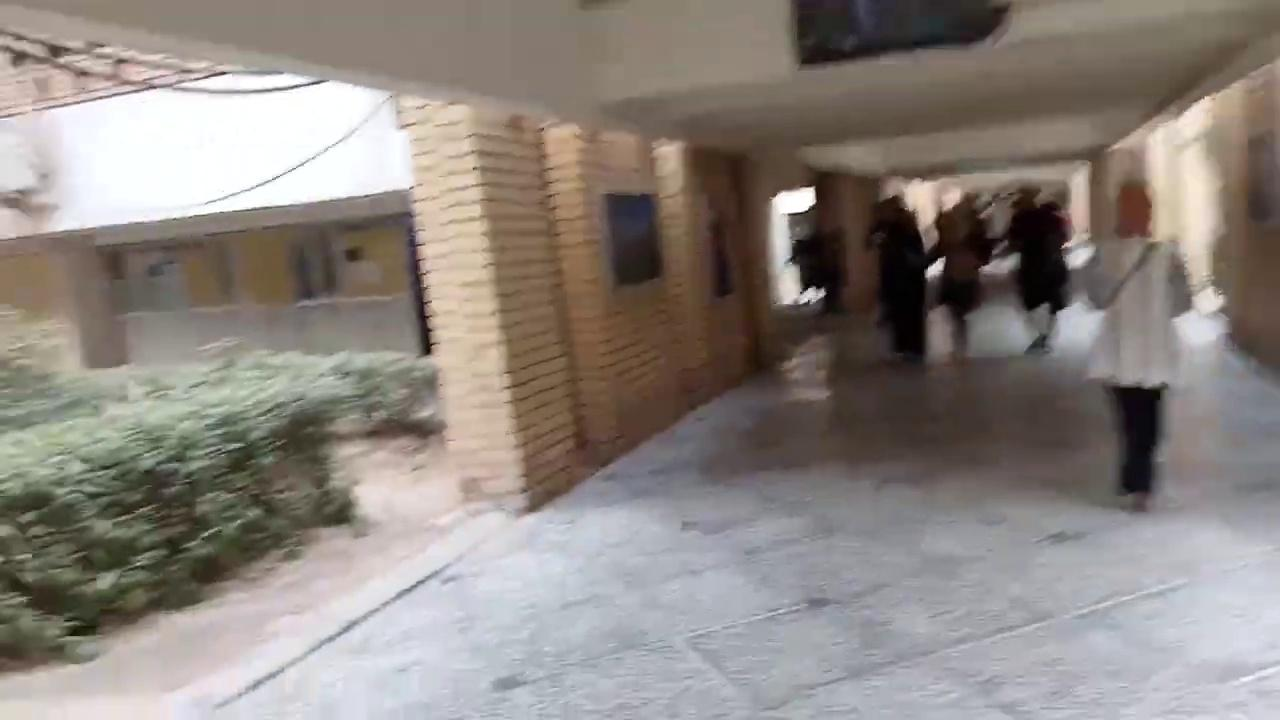person: (1081, 180, 1194, 512), (991, 184, 1071, 354), (927, 190, 998, 364), (868, 194, 934, 365)
tree: (0, 327, 442, 670)
